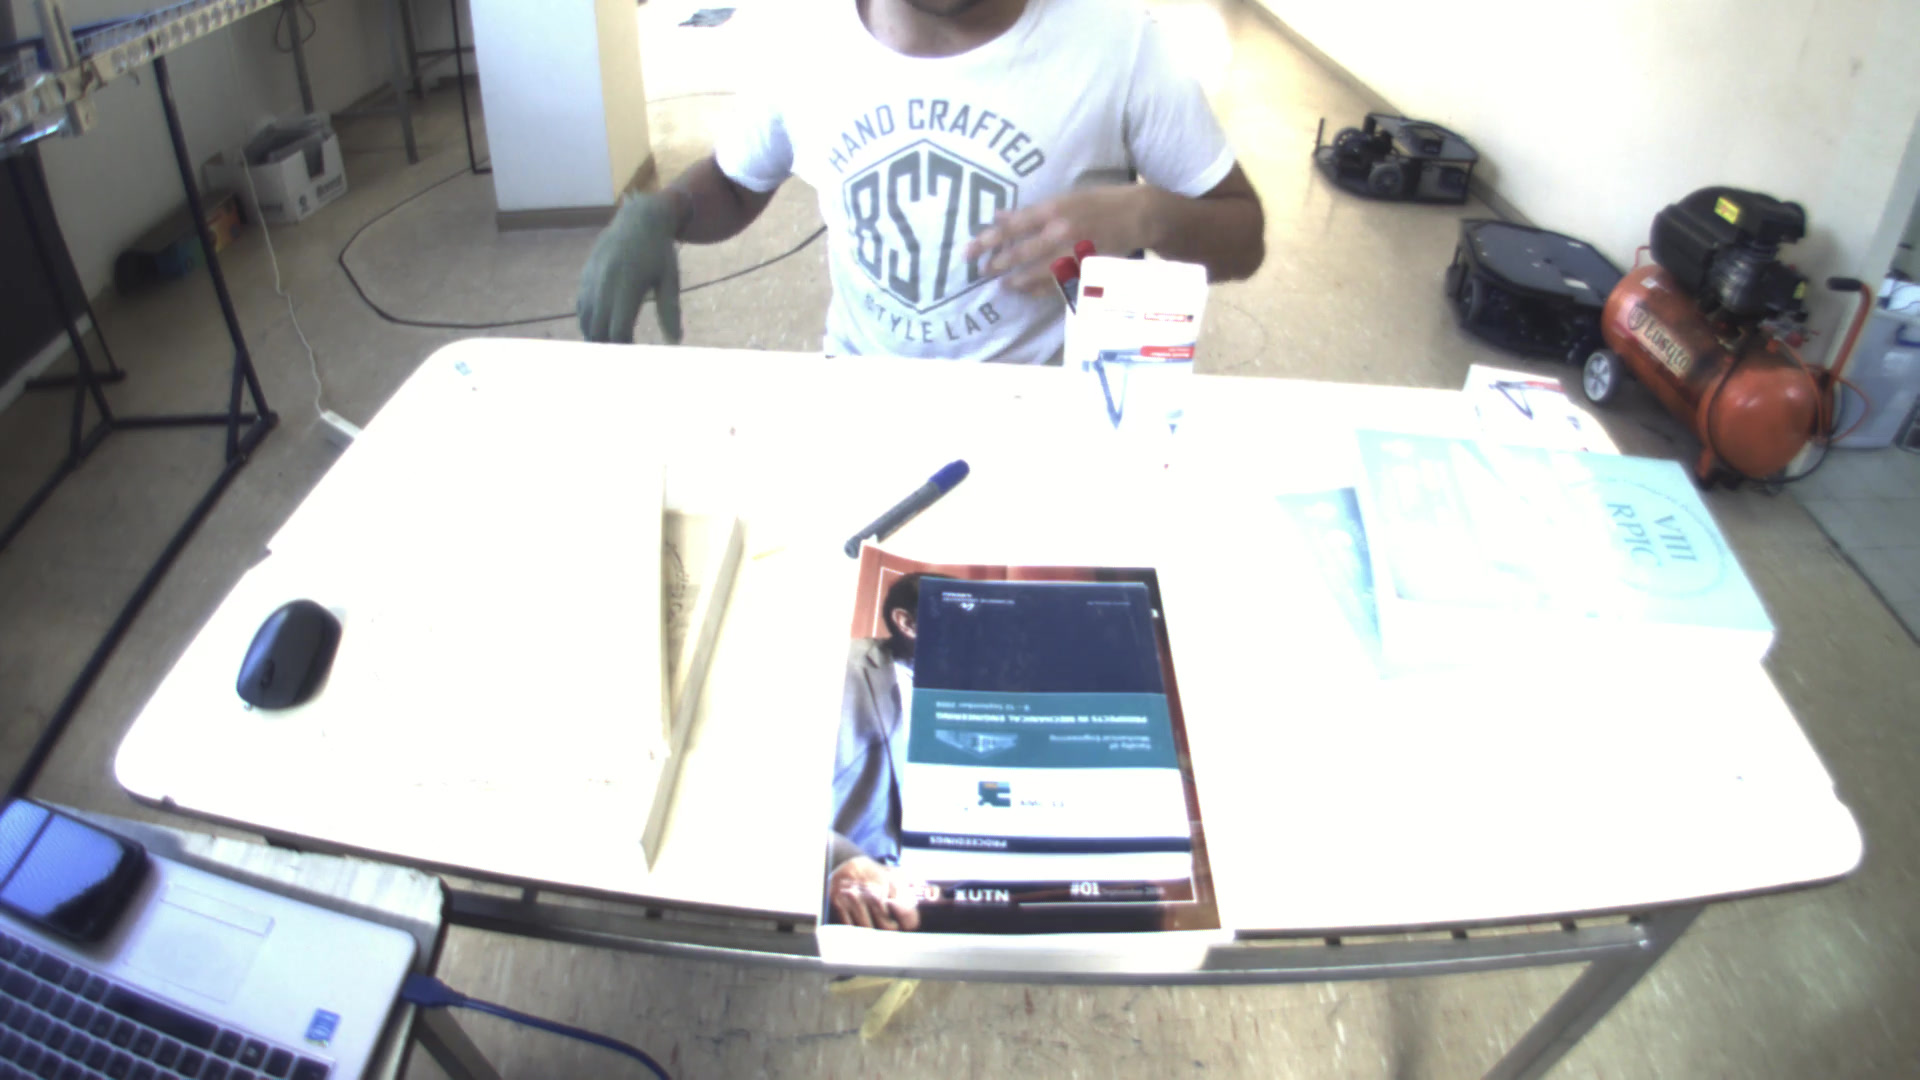hand: (559, 170, 708, 345), (968, 167, 1156, 291)
